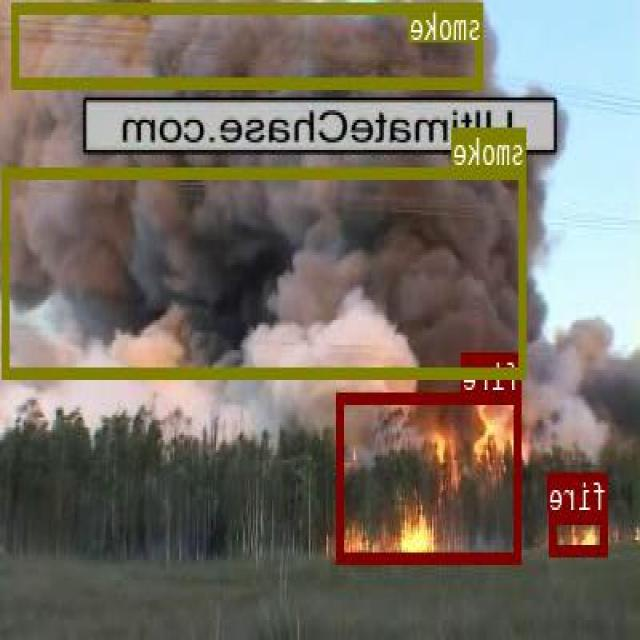fire: (339, 392, 523, 560), (551, 512, 608, 554)
smoke: (3, 166, 527, 375), (13, 2, 484, 86)
